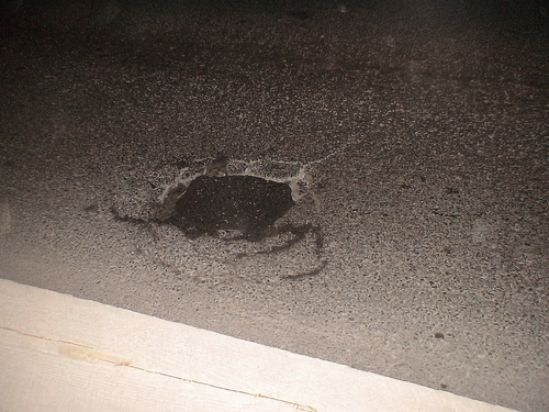pothole: (141, 158, 303, 245)
